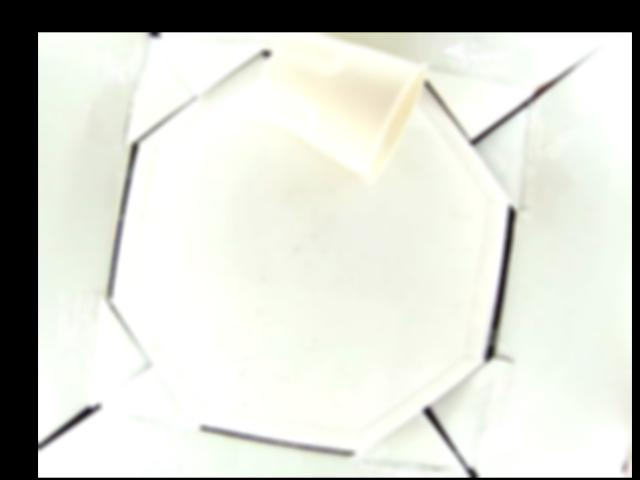Cup: (254, 33, 429, 181)
